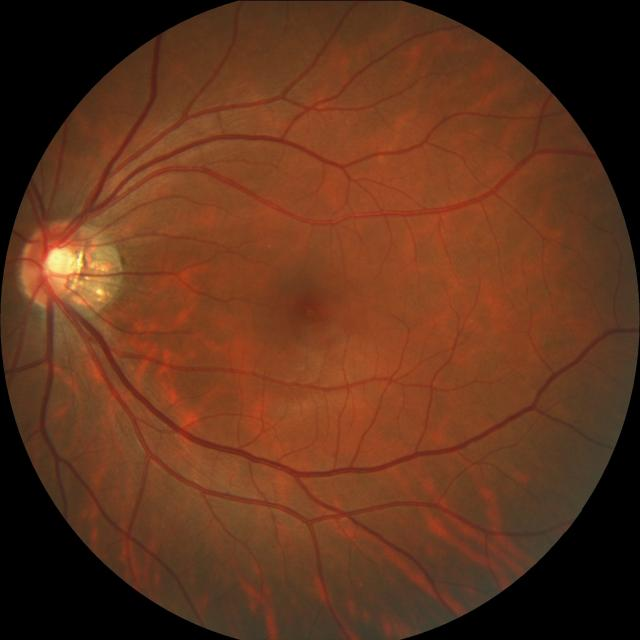OC: (29, 238, 73, 290)
OD: (18, 220, 86, 304)
